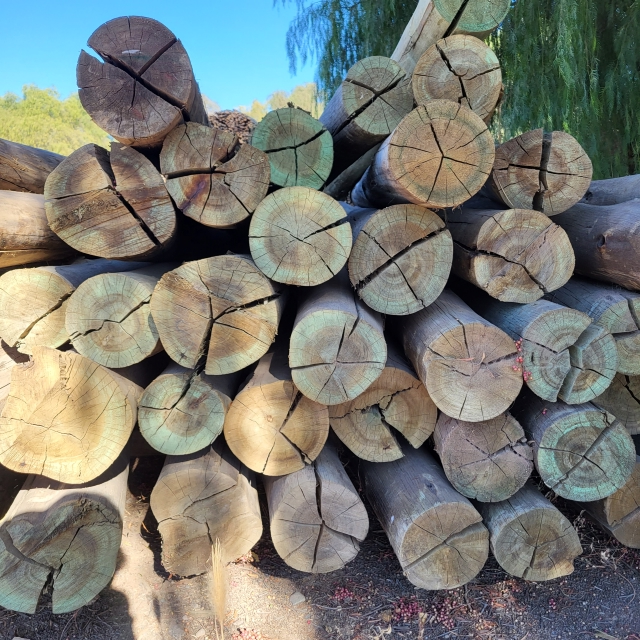stick: (1, 346, 134, 485), (43, 142, 176, 258), (150, 256, 278, 375), (76, 16, 191, 139), (1, 499, 122, 615), (149, 469, 262, 577), (348, 203, 454, 316), (159, 121, 270, 225), (388, 100, 495, 206), (248, 186, 353, 286), (328, 367, 438, 462), (223, 379, 329, 477), (423, 323, 523, 422), (473, 208, 575, 303), (288, 309, 387, 405), (520, 308, 617, 405), (270, 481, 369, 573), (537, 410, 636, 502), (65, 272, 159, 368), (492, 127, 593, 216), (442, 414, 534, 502), (400, 502, 489, 591), (412, 34, 502, 119), (138, 374, 225, 455), (251, 108, 334, 191), (495, 507, 583, 581), (1, 268, 76, 354), (342, 55, 413, 134), (595, 298, 640, 376)
